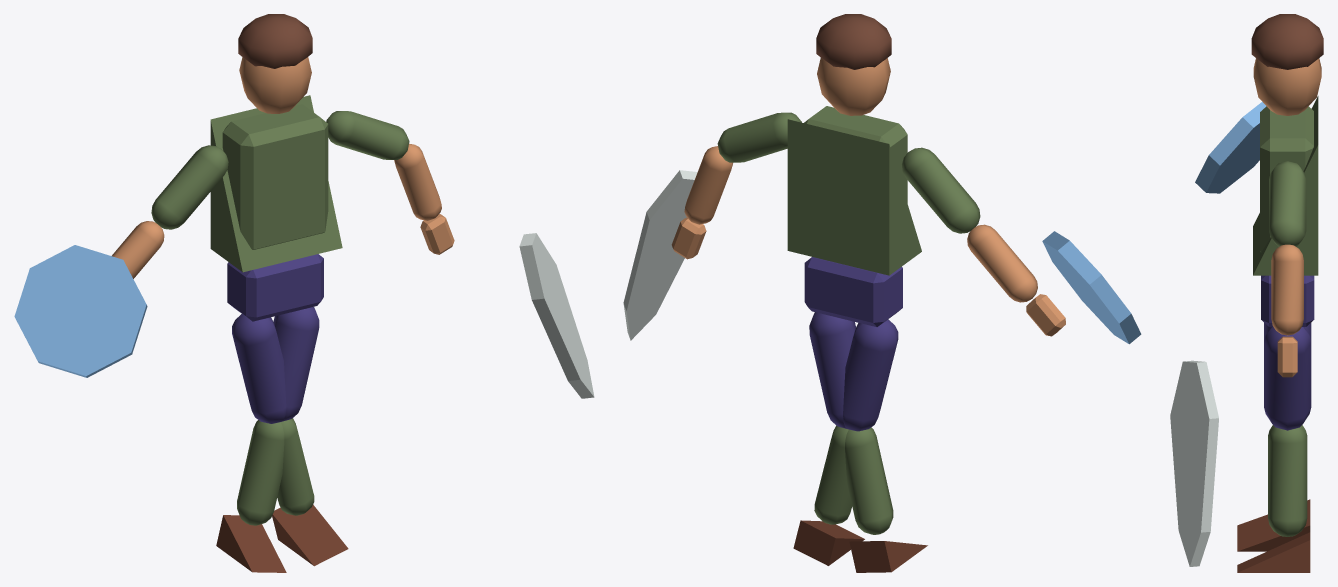
File: adventurer.rustic.glb
3 views of the same model, side by side, from view 1: azimuth 30°, elevation 25°; view 2: azimuth 150°, elevation 25°; view 3: azimuth 270°, elevation 25° (orthographic).
Visible parts, largest first — view 1: accessory.off-hand, torso, tunic, accessory.main-hand, pelvis, thigh.left, shin.right, upper-arm.left, hair, thigh.right, head, upper-arm.right (+6 smaller); view 2: tunic, accessory.main-hand, pelvis, thigh.left, shin.right, accessory.off-hand, upper-arm.left, hair, thigh.right, head, forearm.left, upper-arm.right (+7 smaller); view 3: accessory.main-hand, shin.left, thigh.right, torso, hair, accessory.off-hand, upper-arm.right, tunic, head, forearm.right, foot.left, foot.right (+2 smaller).
Part boxes in pixels (left/top/right/bottom): accessory.off-hand: left=14, top=245, right=147, bottom=377; torso: left=222, top=104, right=328, bottom=249; tunic: left=210, top=95, right=342, bottom=272; accessory.main-hand: left=519, top=233, right=594, bottom=398; pelvis: left=227, top=254, right=323, bottom=321; thigh.left: left=232, top=314, right=286, bottom=423; shin.right: left=237, top=420, right=284, bottom=525; upper-arm.left: left=151, top=145, right=228, bottom=229; hair: left=238, top=14, right=312, bottom=68; thigh.right: left=273, top=307, right=319, bottom=421; head: left=239, top=57, right=311, bottom=113; upper-arm.right: left=326, top=111, right=409, bottom=159; tunic: left=787, top=119, right=921, bottom=275; accessory.main-hand: left=623, top=170, right=697, bottom=340; pelvis: left=804, top=257, right=902, bottom=326; thigh.left: left=843, top=319, right=898, bottom=431; shin.right: left=845, top=427, right=893, bottom=534; accessory.off-hand: left=1042, top=231, right=1141, bottom=344; upper-arm.left: left=902, top=147, right=980, bottom=233; hair: left=816, top=14, right=891, bottom=69; thigh.right: left=809, top=312, right=855, bottom=428; head: left=817, top=58, right=890, bottom=115; forearm.left: left=967, top=224, right=1037, bottom=302; upper-arm.right: left=717, top=112, right=801, bottom=162; accessory.main-hand: left=1170, top=360, right=1218, bottom=566; shin.left: left=1268, top=426, right=1307, bottom=536; thigh.right: left=1264, top=327, right=1311, bottom=430; torso: left=1260, top=106, right=1313, bottom=251; hair: left=1251, top=14, right=1323, bottom=69; accessory.off-hand: left=1195, top=101, right=1266, bottom=193; upper-arm.right: left=1269, top=161, right=1306, bottom=246; tunic: left=1253, top=96, right=1318, bottom=275; head: left=1253, top=58, right=1321, bottom=115; forearm.right: left=1271, top=244, right=1303, bottom=335; foot.left: left=1237, top=532, right=1310, bottom=572; foot.right: left=1237, top=499, right=1310, bottom=551.
Bounding box in the file's own units: 3.18 × 3.01 × 0.7764.
